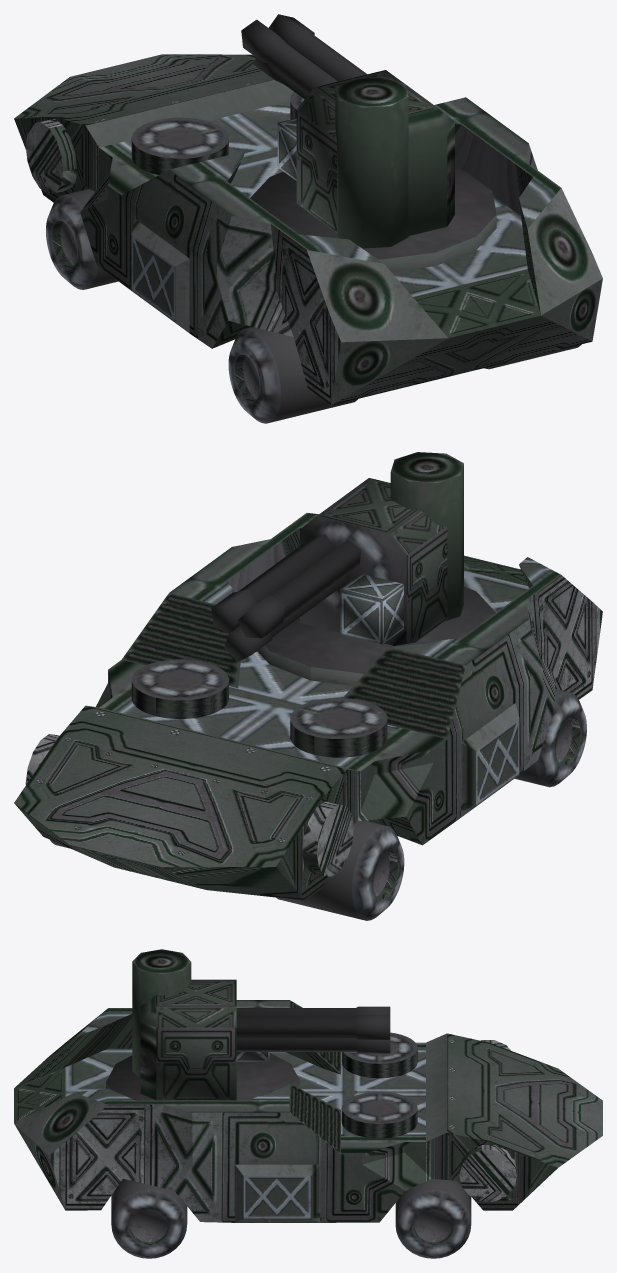
Rendered from AlphaVroomer.fbx.
3 renders of one model, top to bottom at view 1: azimuth 30°, elevation 25°; view 2: azimuth 150°, elevation 25°; view 3: azimuth 270°, elevation 25°, orthographic. The views are drawn at different scales.
Visible parts, largest first — view 1: Chasis, Turret, Wheels; view 2: Chasis, Turret, Wheels; view 3: Chasis, Turret, Wheels.
Boxes of the visible parts, x1=… form: Chasis: x1=14, y1=54, x2=602, y2=405; Turret: x1=241, y1=14, x2=496, y2=271; Wheels: x1=46, y1=188, x2=581, y2=423; Chasis: x1=14, y1=513, x2=602, y2=900; Turret: x1=211, y1=452, x2=495, y2=685; Wheels: x1=50, y1=689, x2=586, y2=920; Chasis: x1=14, y1=1000, x2=602, y2=1222; Turret: x1=106, y1=949, x2=390, y2=1100; Wheels: x1=111, y1=1178, x2=471, y2=1258.
Size of the model in its own units: 816 by 661 by 1554.
Materials: 1 (1 with a texture image).
